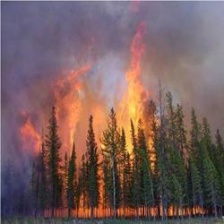fire: (36, 66, 159, 177)
